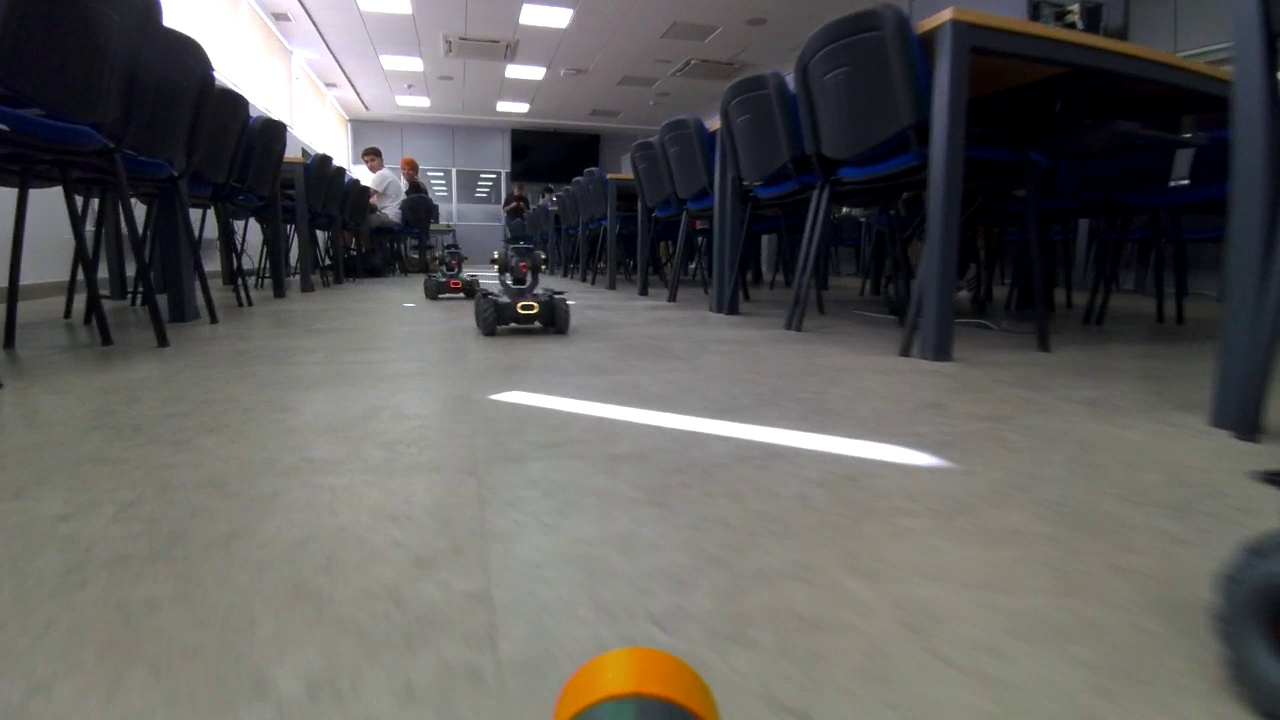robot: (469, 238, 569, 340), (424, 235, 481, 303)
